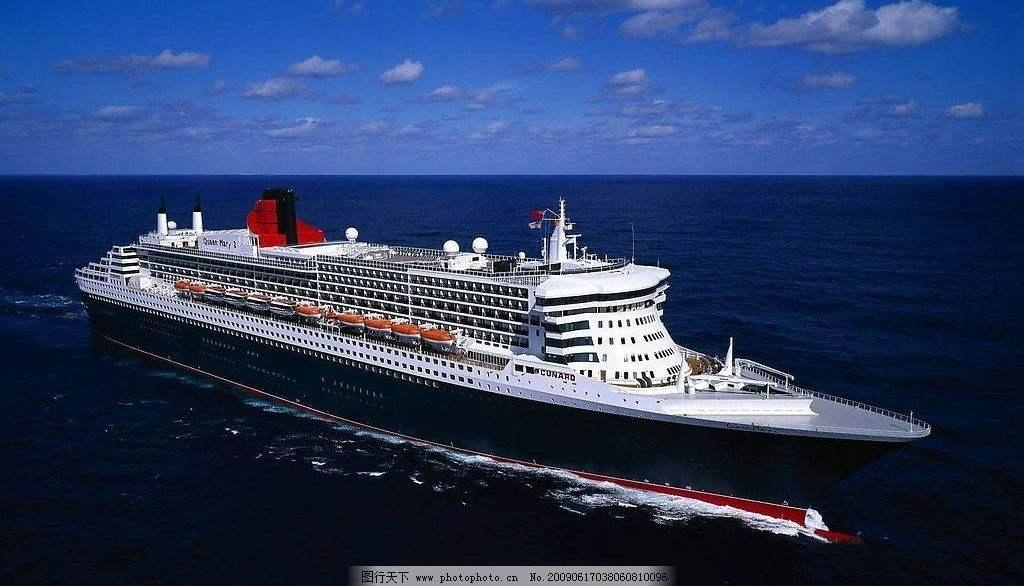youlun: (72, 179, 934, 544)
